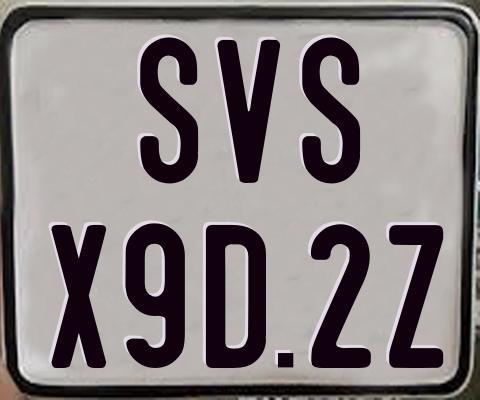2: (311, 224, 371, 371)
9: (124, 221, 185, 366)
D: (205, 222, 269, 366)
S: (301, 37, 362, 184), (140, 35, 198, 188)
V: (215, 37, 278, 182)
X: (49, 224, 105, 371)
Z: (388, 225, 443, 372)
